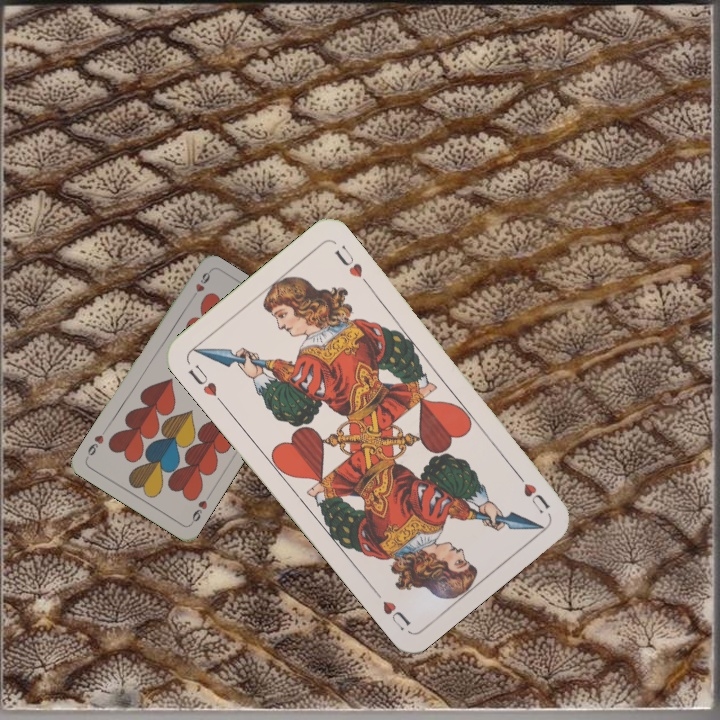H9: (186, 491, 213, 527), (186, 268, 213, 304)
HU: (510, 466, 553, 516), (184, 360, 226, 407)
